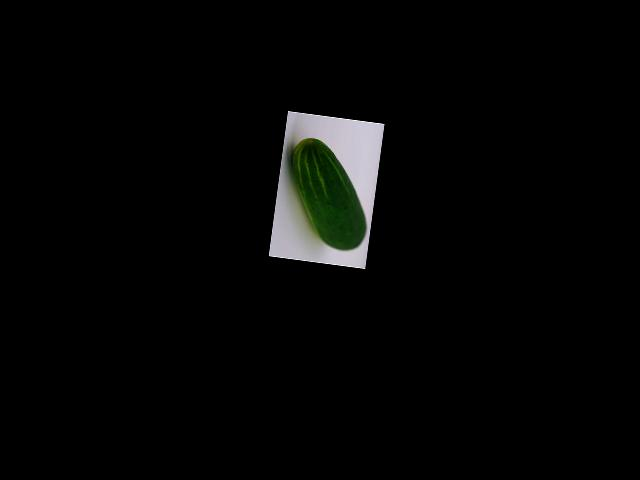cucumber: (280, 136, 376, 253)
